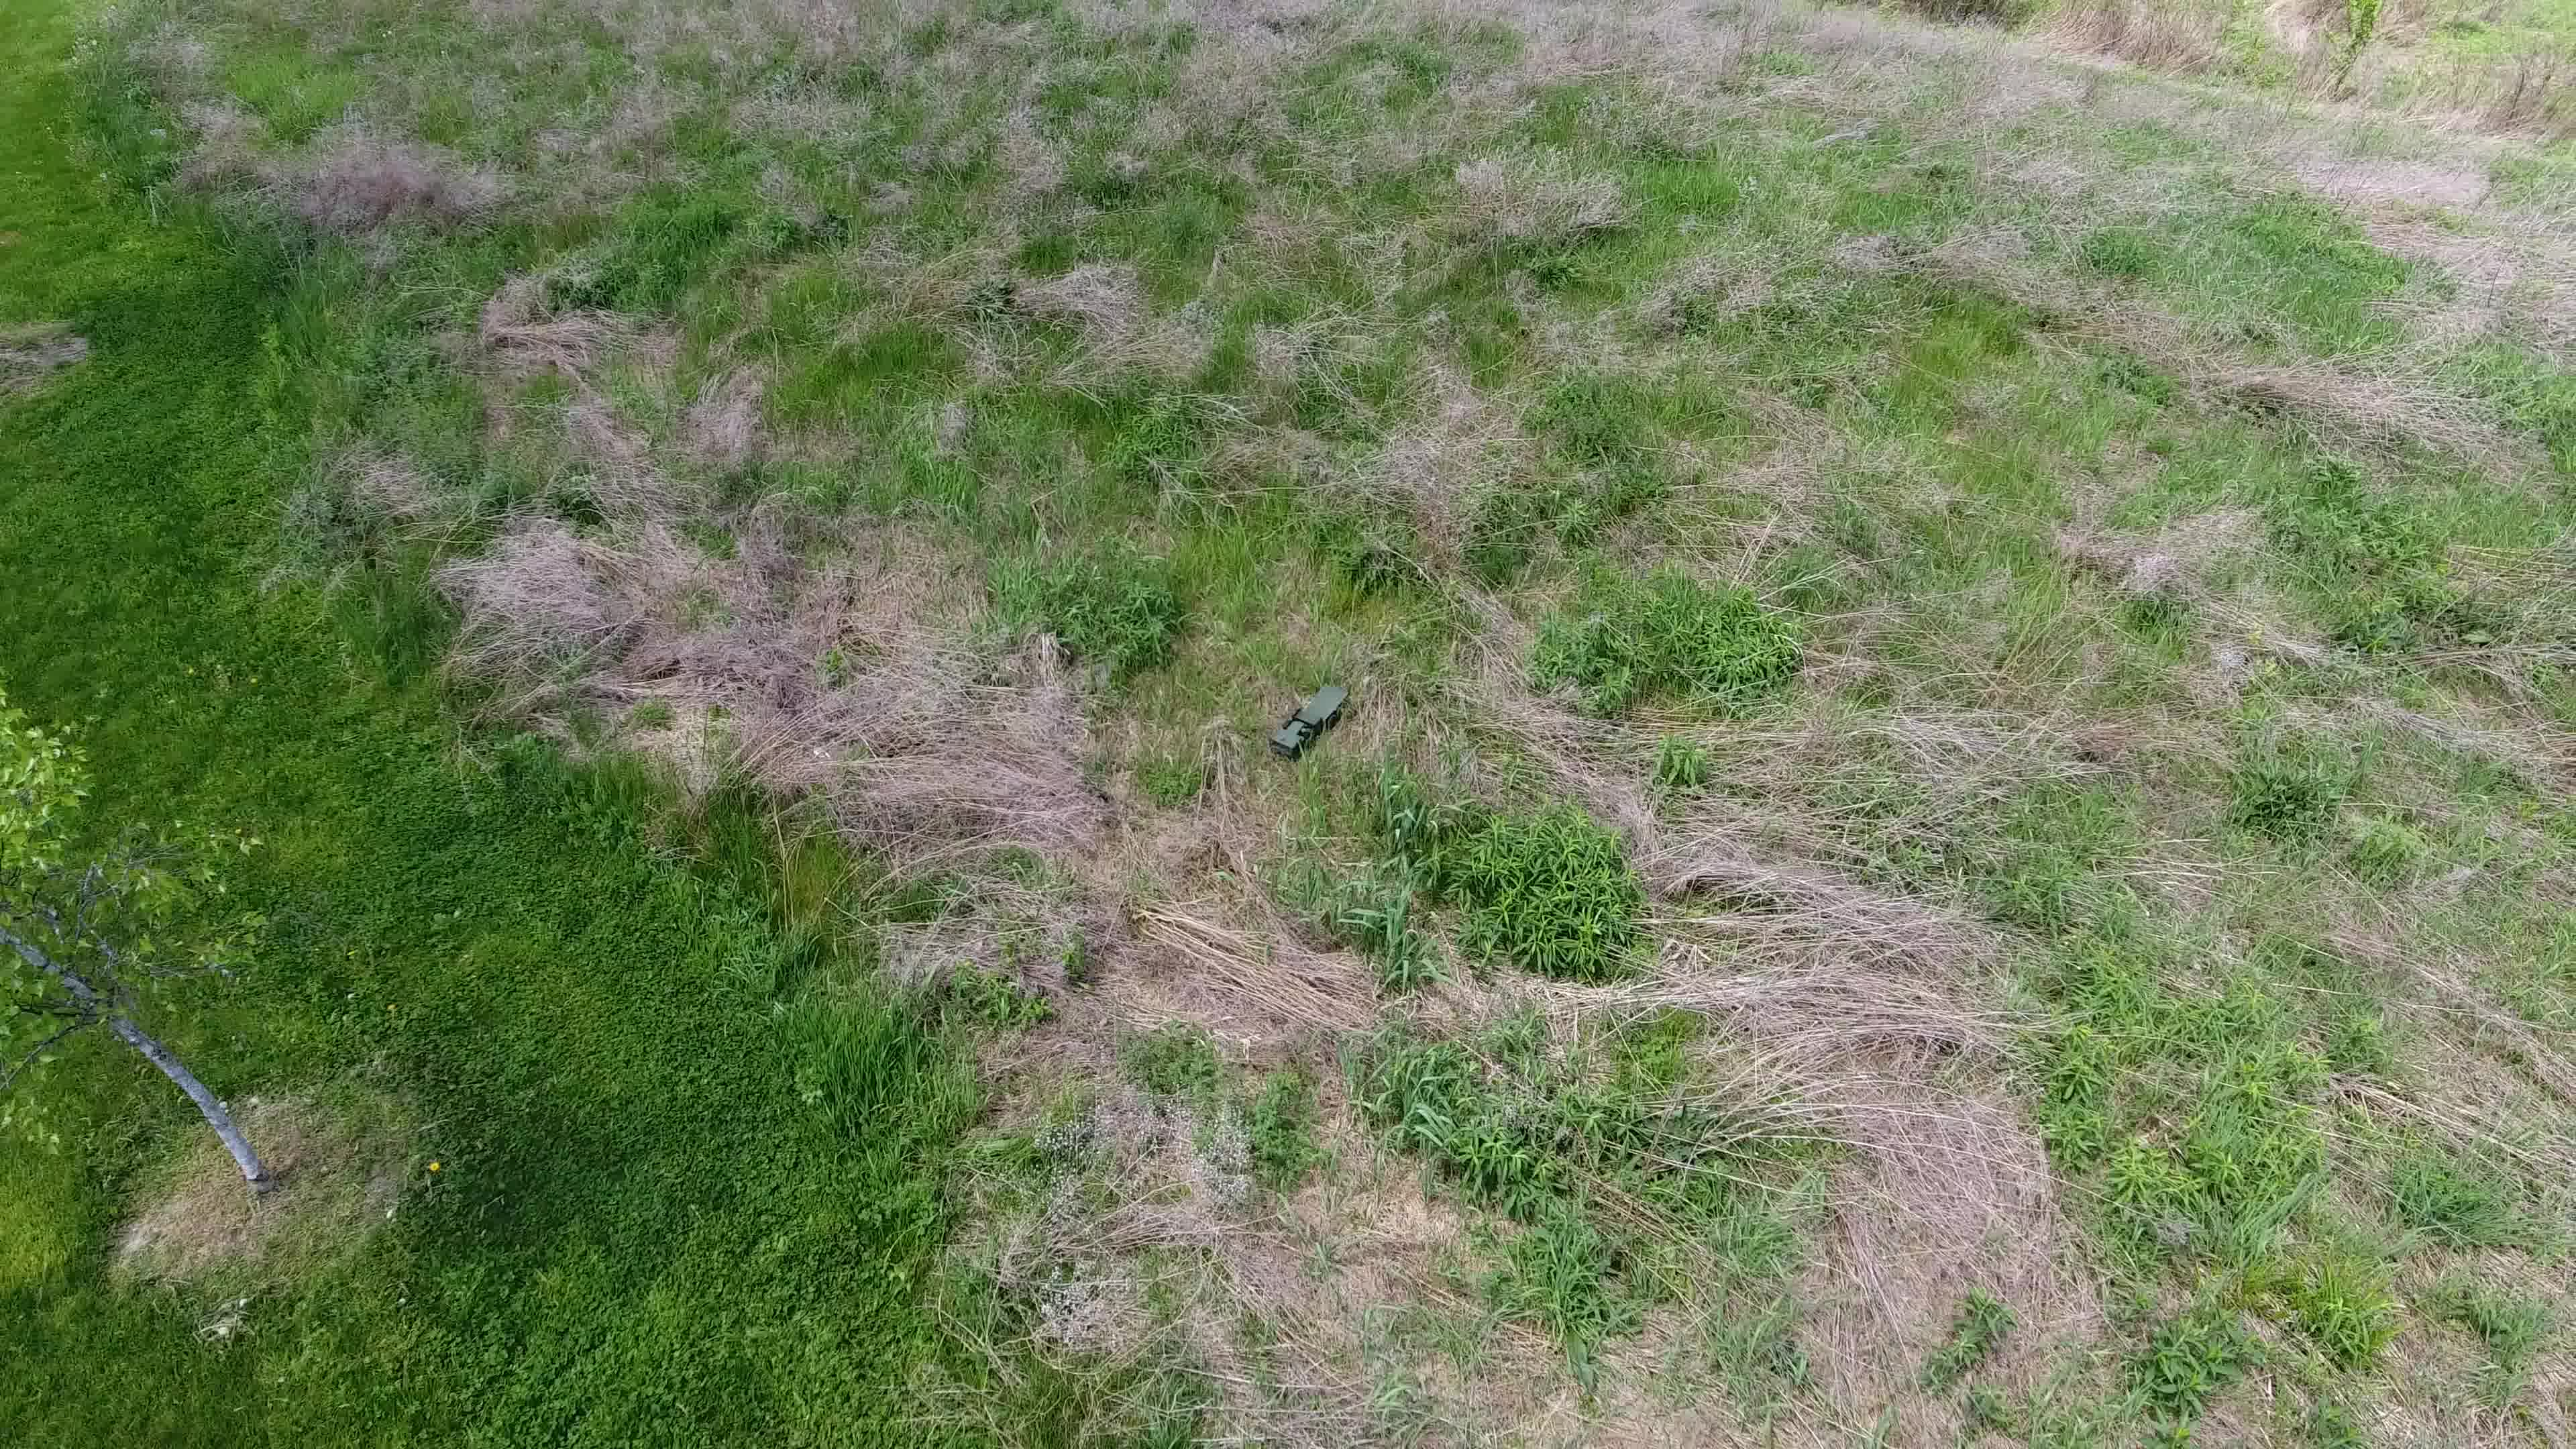transporter9: (1265, 681, 1352, 759)
